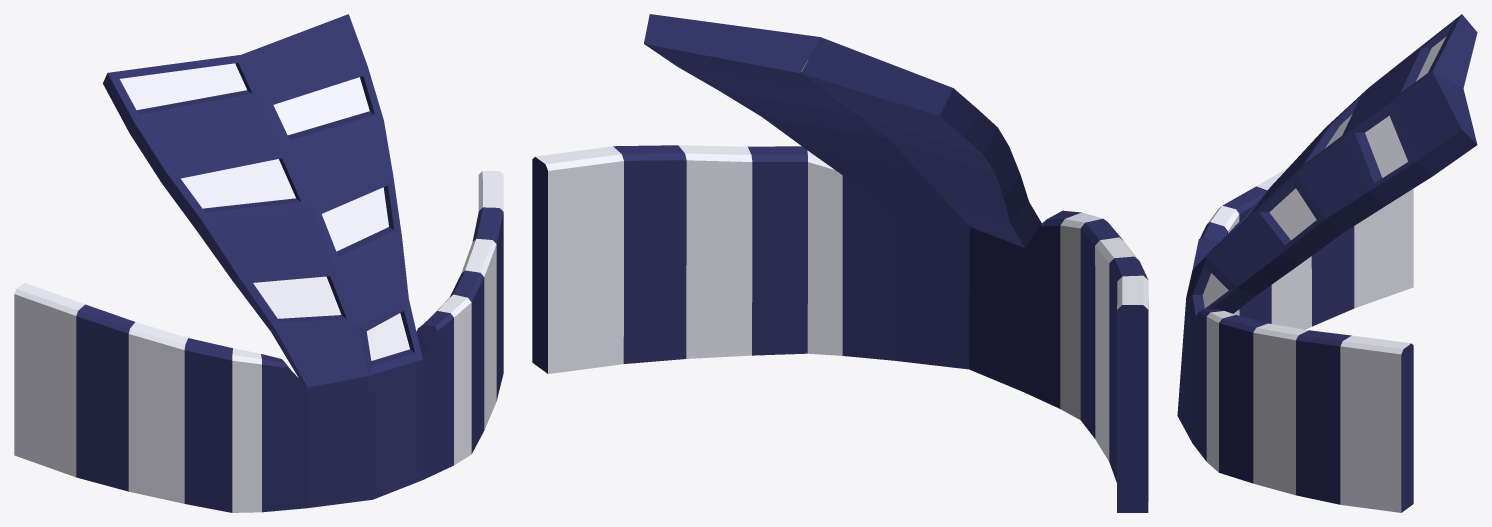
The model's file is Hood5.fbx.
3 renders of one model, left to right at view 1: azimuth 30°, elevation 25°; view 2: azimuth 150°, elevation 25°; view 3: azimuth 270°, elevation 25°, orthographic. The views are drawn at different scales.
Visible parts, largest first — view 1: Hood5; view 2: Hood5; view 3: Hood5.
Part boxes in pixels (x1,y1,x2,y2): Hood5: [14, 14, 503, 512]; Hood5: [532, 14, 1148, 512]; Hood5: [1177, 14, 1477, 512].
Bounding box in the file's own units: 696 × 476 × 377.
